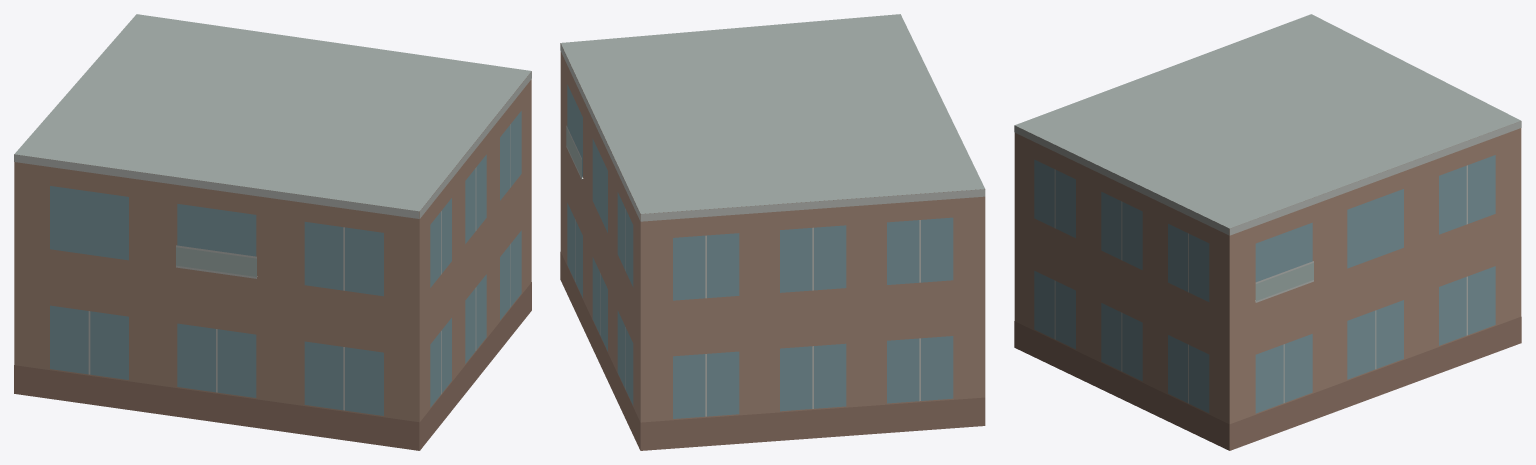
File: survey-upis-32638709.glb
3 renders of one model, left to right at view 1: azimuth 30°, elevation 25°; view 2: azimuth 150°, elevation 25°; view 3: azimuth 270°, elevation 25°, orthographic. The views are drawn at different scales.
Visible parts, largest first — view 1: survey-upis-32638709.tmp; view 2: survey-upis-32638709.tmp; view 3: survey-upis-32638709.tmp.
Boxes of the visible parts, x1=… form: survey-upis-32638709.tmp: x1=14, y1=14, x2=531, y2=450; survey-upis-32638709.tmp: x1=560, y1=14, x2=985, y2=450; survey-upis-32638709.tmp: x1=1014, y1=14, x2=1521, y2=450.
Size of the model in its own units: 15.74 by 7.6 by 15.72.
